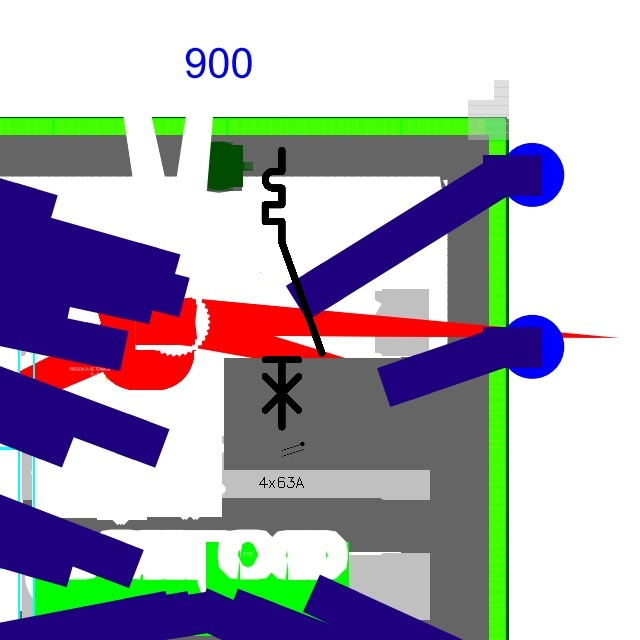interruptor_termomagnetico: (258, 143, 329, 434)
